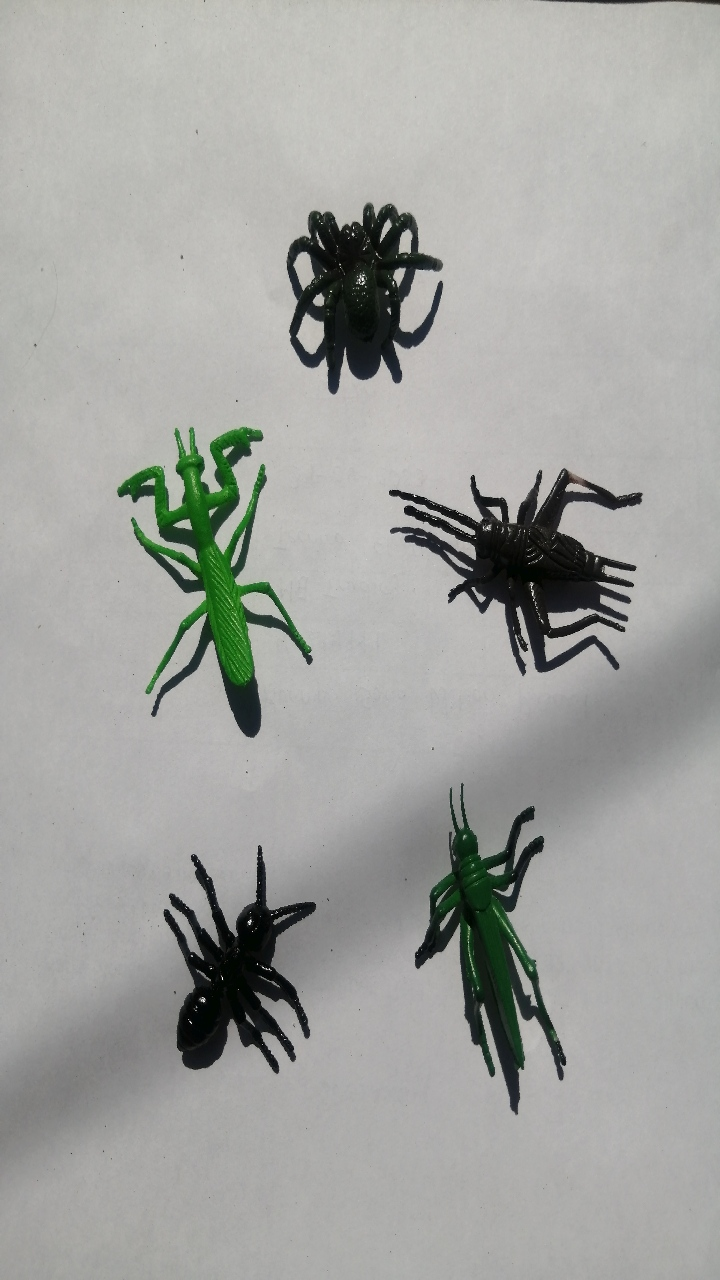intruso: (89, 379, 331, 749), (375, 412, 688, 691), (394, 759, 589, 1115), (121, 814, 331, 1108), (255, 174, 474, 394)
